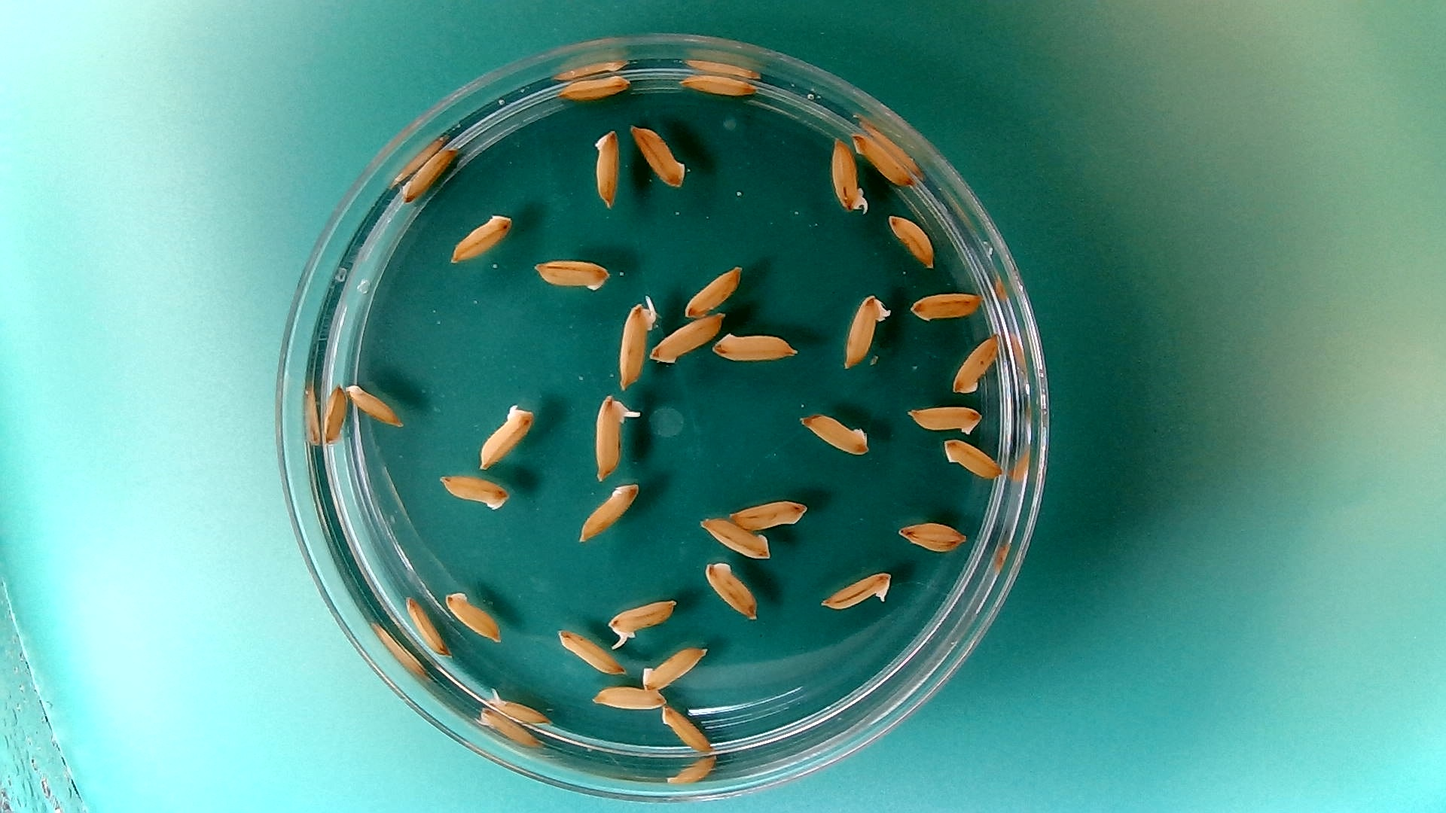no: (572, 483, 645, 551), (474, 400, 538, 472), (627, 120, 689, 190), (648, 311, 725, 364), (398, 139, 460, 203), (850, 128, 915, 187), (554, 626, 627, 678), (700, 559, 760, 622), (447, 209, 514, 265), (441, 586, 503, 644), (681, 261, 744, 318), (639, 641, 711, 690), (796, 409, 871, 456), (695, 513, 771, 559), (817, 568, 894, 613), (948, 332, 1001, 395), (709, 328, 799, 364), (435, 470, 511, 512), (531, 255, 613, 293), (403, 592, 450, 658), (343, 379, 406, 428), (657, 702, 714, 756), (728, 495, 810, 531), (886, 212, 937, 269), (939, 437, 1005, 481), (905, 401, 984, 437), (908, 288, 985, 324), (895, 516, 969, 553), (590, 125, 622, 209), (587, 681, 666, 711), (556, 71, 633, 101), (679, 71, 760, 99), (321, 381, 349, 446)
yes: (591, 390, 641, 481), (615, 295, 660, 391), (840, 290, 893, 371), (608, 595, 677, 647), (828, 134, 871, 216), (486, 687, 553, 725)
